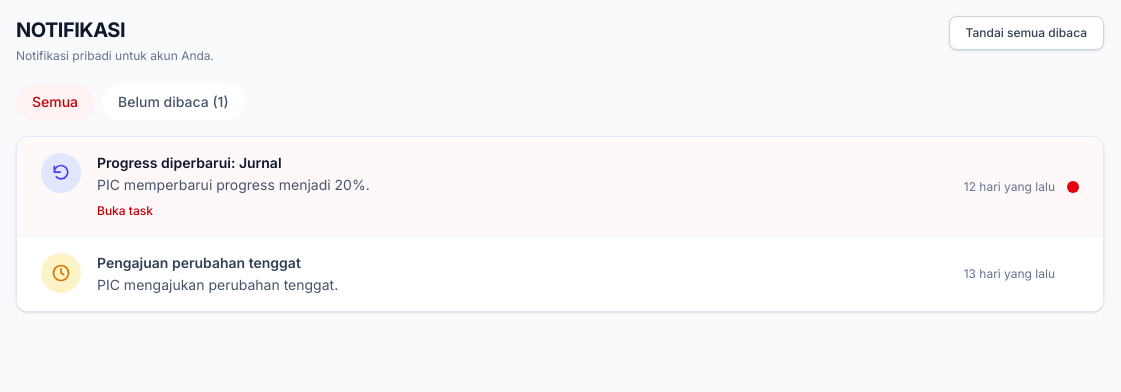
Test: NotificationInbox (FR-080) › shows server action errors accessibly
Click the button named "Tandai \"Progress diperbarui: Jurnal\" sudah dibaca": point(1073, 186) x1=1067 y1=180 x2=1079 y2=192
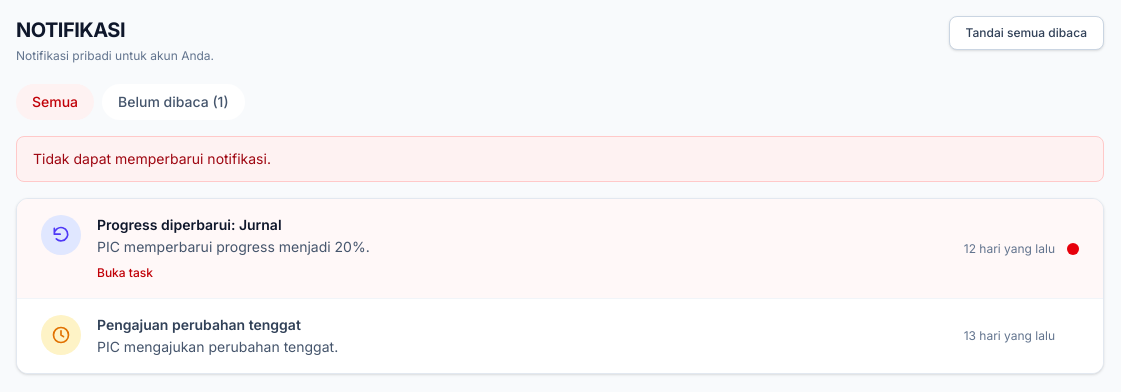
Expected: the message reads "Tidak dapat memperbarui notifikasi.", x1=33 y1=150 x2=271 y2=167
